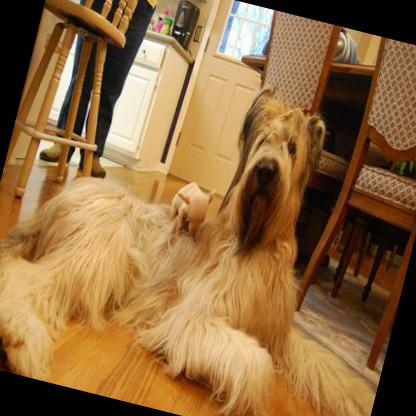briard: (0, 25, 416, 416)
